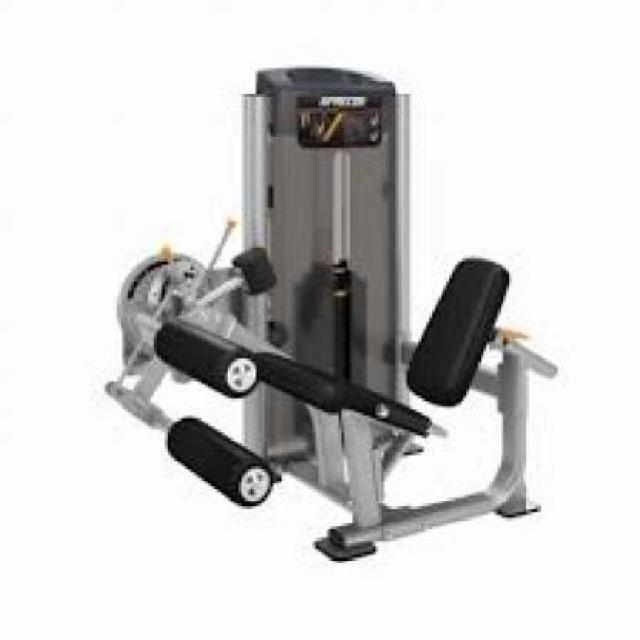leg extension: (92, 62, 574, 586)
